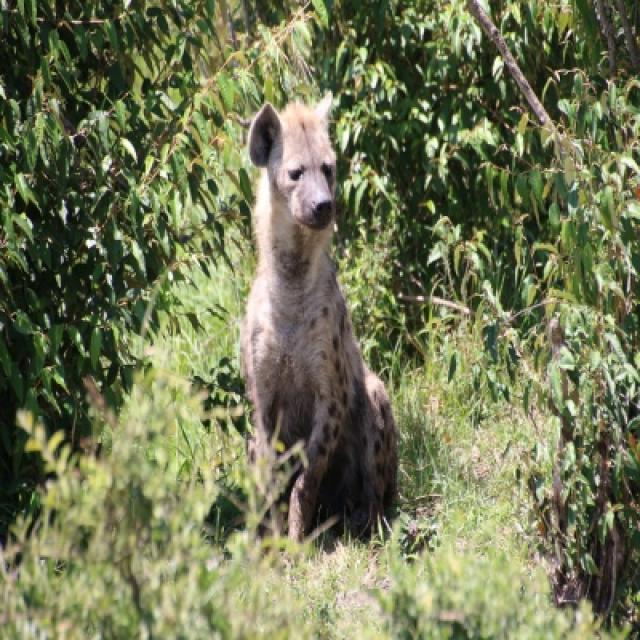hyena: (242, 94, 395, 539)
